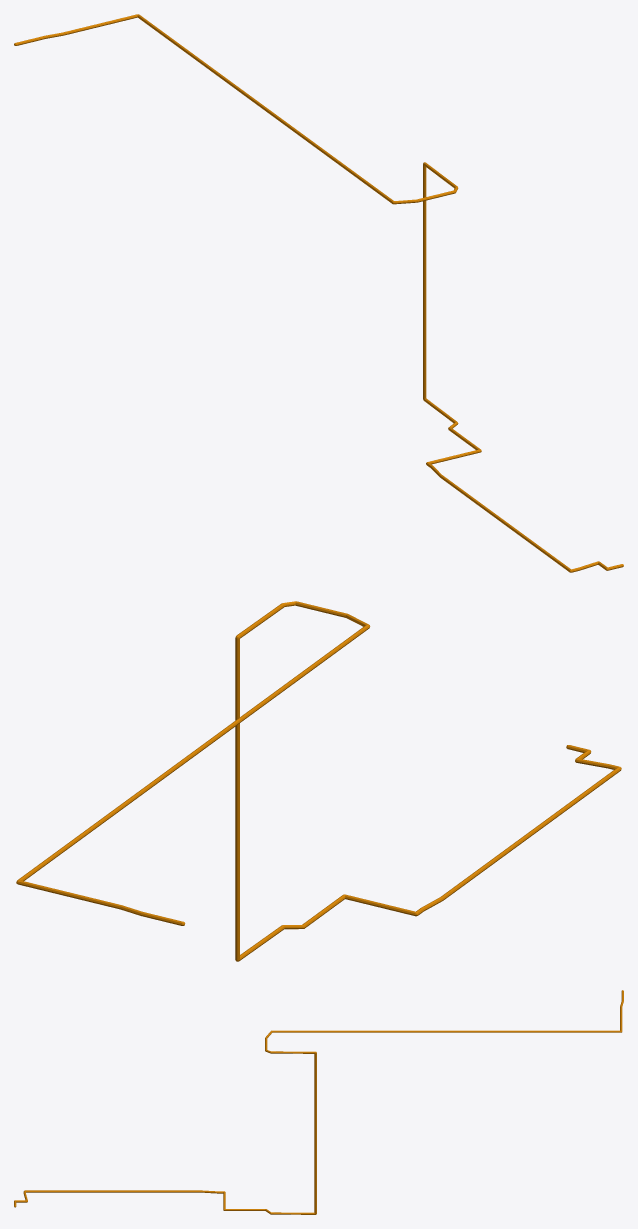
3 views of the same model, one above another, from view 1: azimuth 30°, elevation 25°; view 2: azimuth 150°, elevation 25°; view 3: azimuth 270°, elevation 25° (orthographic). The views are drawn at different scales.
Size of the model in its own units: 1250 by 1520 by 5150.
